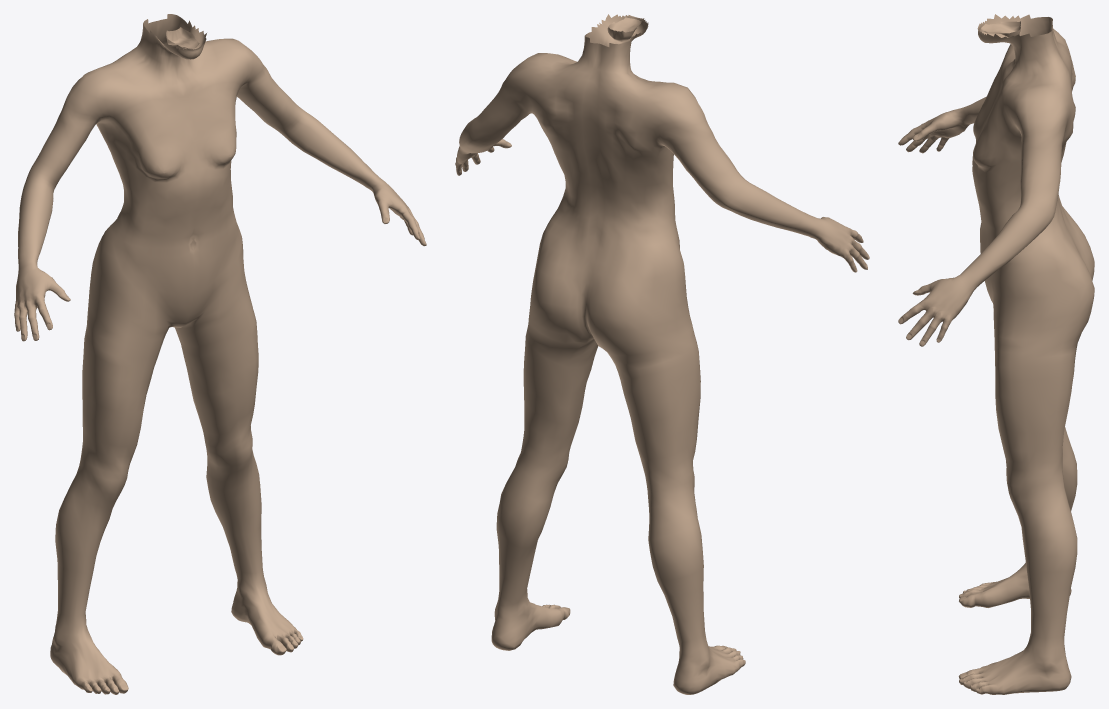
The model's file is body_makehuman.obj.
3 views of the same model, side by side, from view 1: azimuth 30°, elevation 25°; view 2: azimuth 150°, elevation 25°; view 3: azimuth 270°, elevation 25° (orthographic).
Visible parts, largest first — view 1: BodyMakeHuman; view 2: BodyMakeHuman; view 3: BodyMakeHuman.
Boxes of the visible parts, x1=… form: BodyMakeHuman: x1=14, y1=14, x2=426, y2=694; BodyMakeHuman: x1=455, y1=14, x2=869, y2=694; BodyMakeHuman: x1=898, y1=14, x2=1094, y2=694.
Size of the model in its own units: 9.93 by 14.75 by 4.23.
